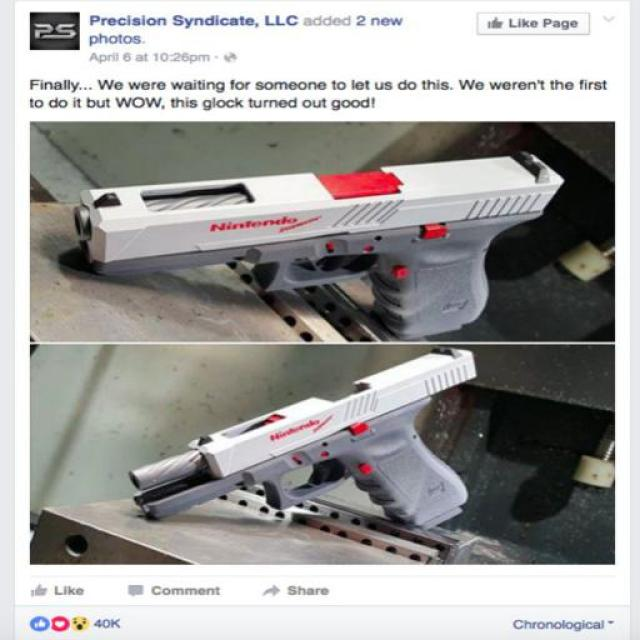pistol: (64, 141, 578, 339), (126, 345, 477, 534)
